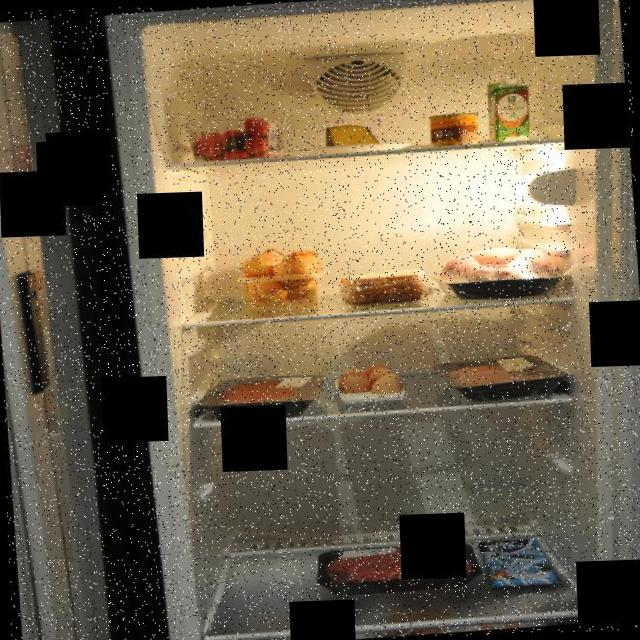Carne pollo: (436, 235, 576, 303), (431, 347, 575, 403)
Carne vacuno: (194, 370, 328, 423)
Cebolla: (235, 242, 322, 312)
Huevos: (334, 362, 408, 404)
Queso: (320, 120, 385, 154)
